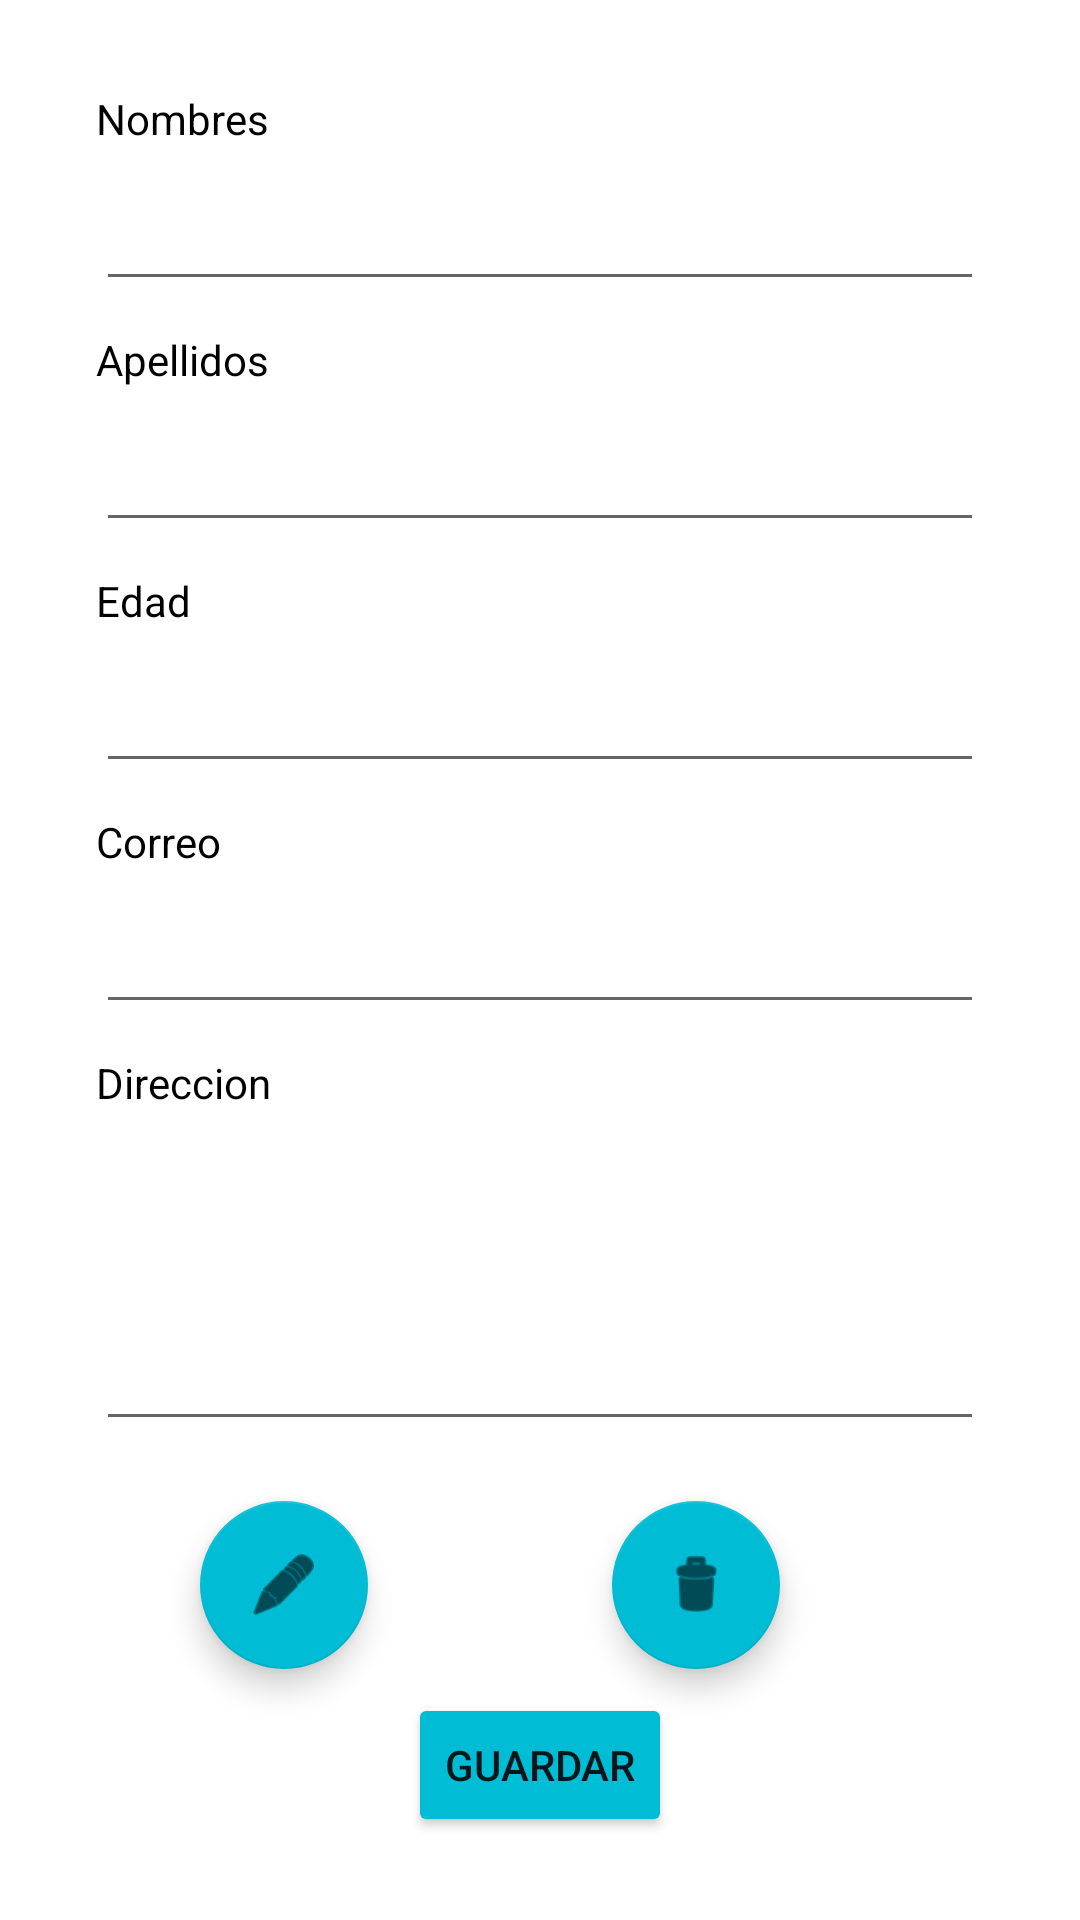

Icon click points for this 1080w x 1920h phone screenshot, format (x,y):
delete: (696,1585)
edit: (284,1585)
